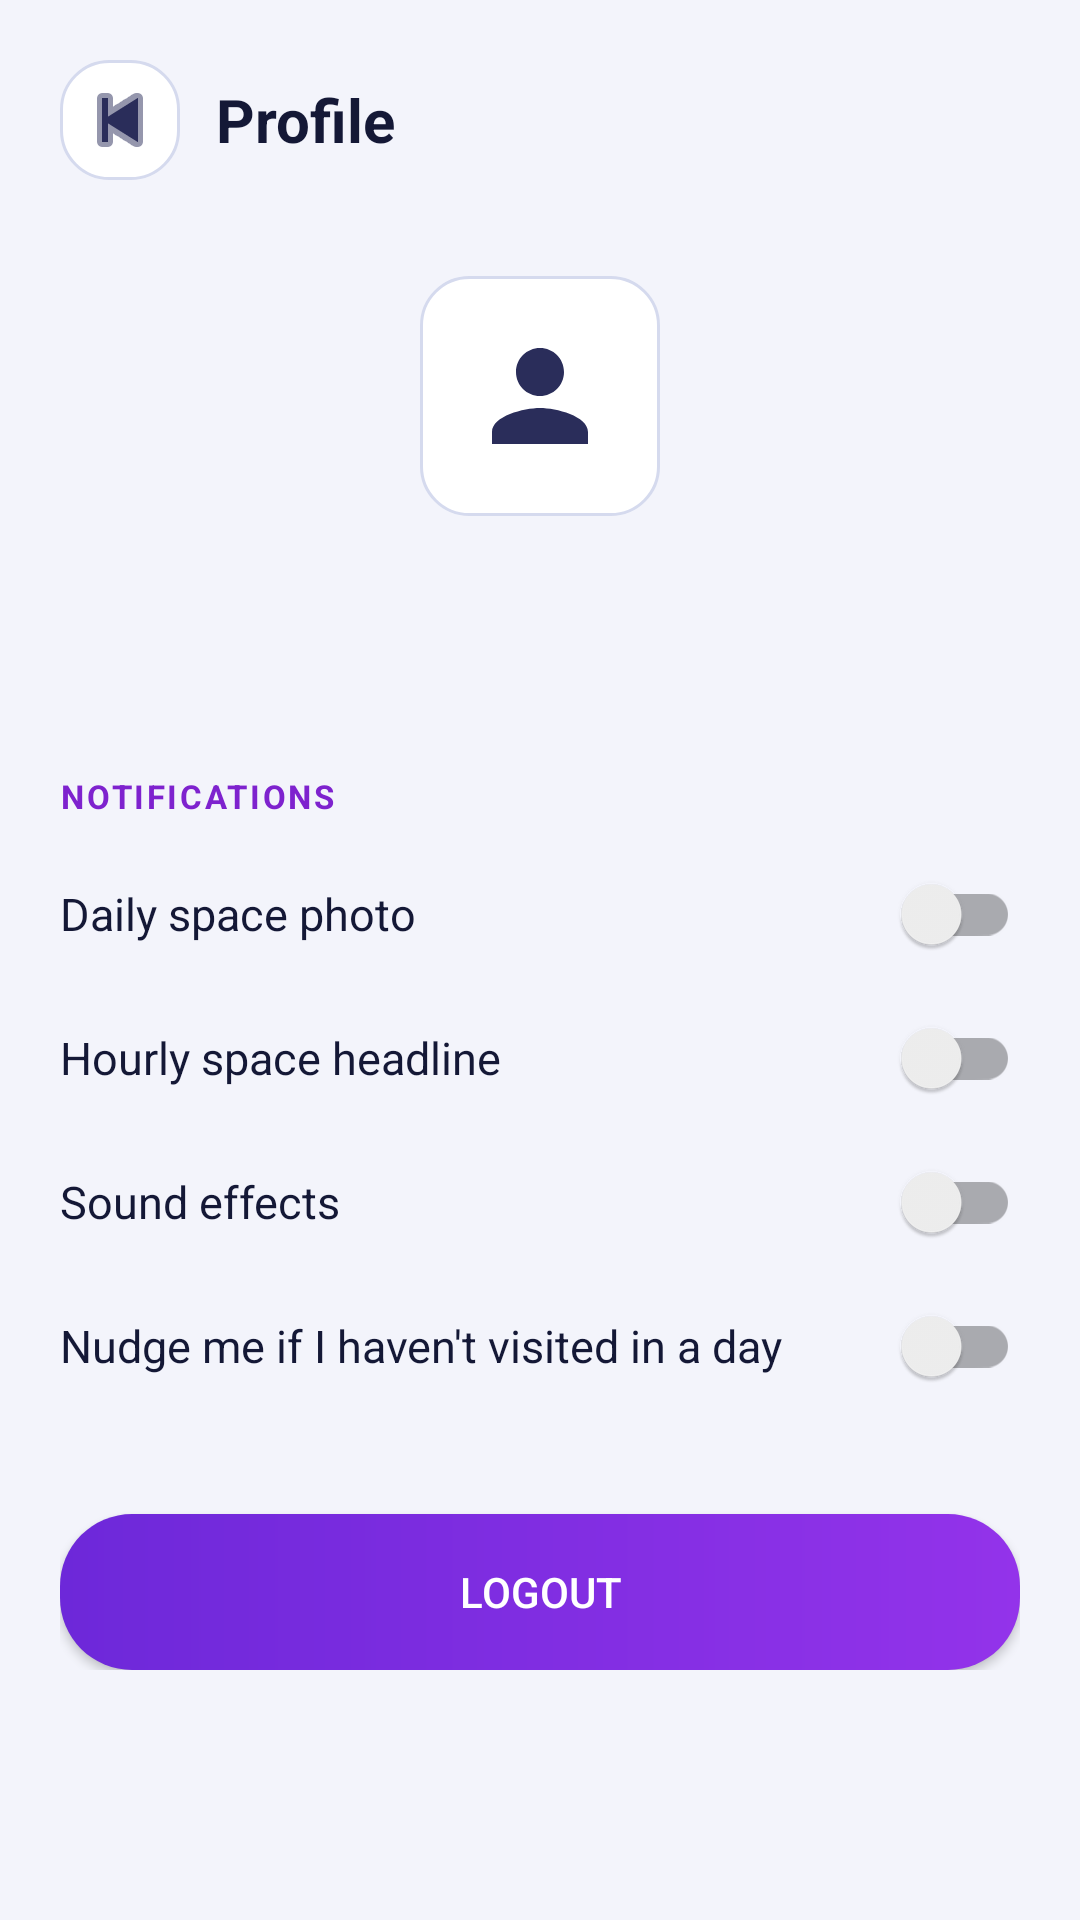

Where to tap for icons on this 1080 × 1920 app screen, as (x,y):
previous: (120,120)
